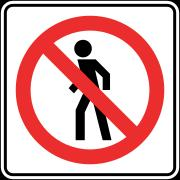Pedestrian Prohibited: (11, 11, 167, 168)
